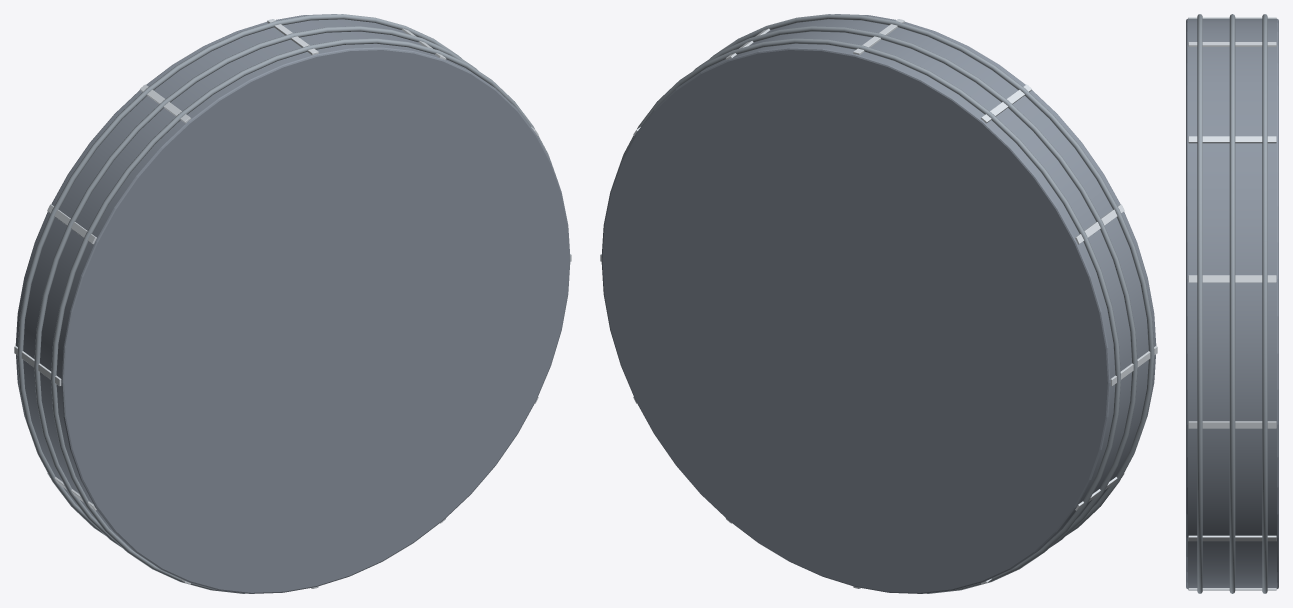
Rendered from armor-standard.glb.
The picture shows the model from 3 angles, left to right: view 1: azimuth 30°, elevation 25°; view 2: azimuth 150°, elevation 25°; view 3: azimuth 270°, elevation 25°; orthographic projection. The views are drawn at different scales.
Visible parts, largest first — view 1: armor_hull, armor_band_0.35, armor_band_-0.35, armor_band_0.0; view 2: armor_hull, armor_band_-0.35, armor_band_0.0, armor_band_0.35; view 3: armor_hull, armor_band_0.0, armor_band_-0.35, armor_band_0.35, armor_strip_0, armor_strip_1, armor_strip_2, armor_strip_11, armor_strip_3, armor_strip_10, armor_strip_4.
Part boxes in pixels (bbox=[...]): armor_hull: bbox=[15, 14, 570, 593]; armor_band_0.35: bbox=[51, 38, 557, 593]; armor_band_-0.35: bbox=[17, 14, 461, 535]; armor_band_0.0: bbox=[34, 26, 478, 547]; armor_hull: bbox=[601, 14, 1156, 593]; armor_band_-0.35: bbox=[614, 38, 1120, 593]; armor_band_0.0: bbox=[693, 26, 1137, 547]; armor_band_0.35: bbox=[710, 14, 1154, 535]; armor_hull: bbox=[1186, 18, 1278, 588]; armor_band_0.0: bbox=[1229, 14, 1235, 593]; armor_band_-0.35: bbox=[1262, 14, 1267, 593]; armor_band_0.35: bbox=[1197, 14, 1202, 593]; armor_strip_0: bbox=[1188, 421, 1276, 428]; armor_strip_1: bbox=[1188, 275, 1276, 282]; armor_strip_2: bbox=[1188, 136, 1276, 143]; armor_strip_11: bbox=[1188, 535, 1276, 541]; armor_strip_3: bbox=[1188, 42, 1276, 46]; armor_strip_10: bbox=[1188, 588, 1276, 590]; armor_strip_4: bbox=[1188, 17, 1276, 18].
Size of the model in its own units: 6.26 by 6.26 by 1.
